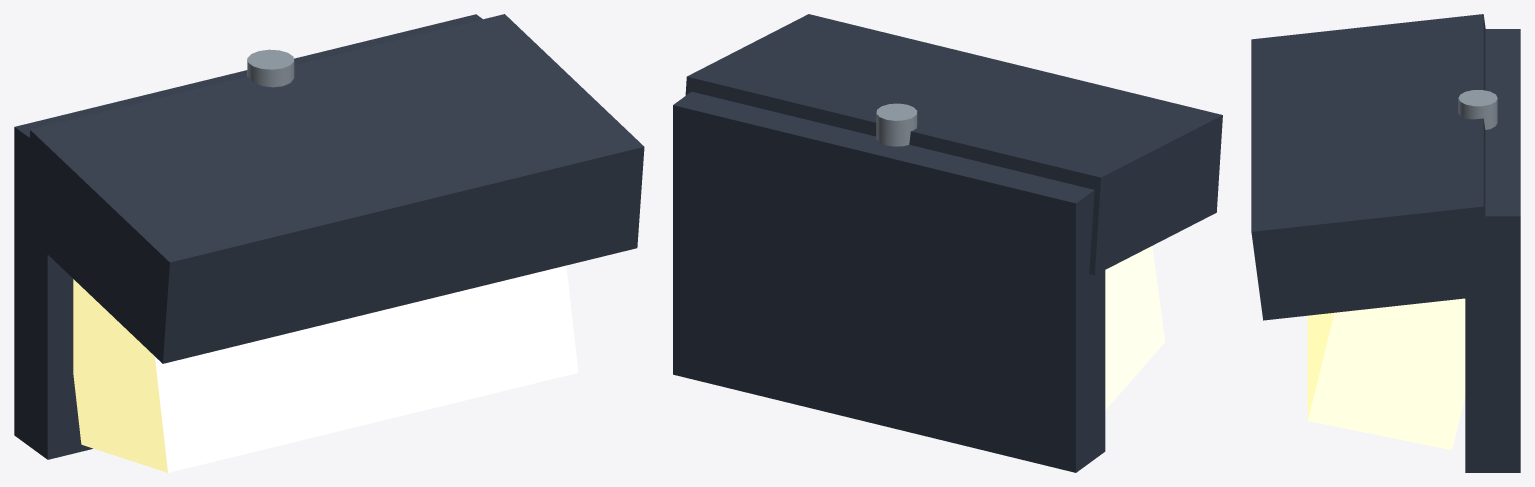
The picture shows the model from 3 angles, left to right: view 1: azimuth 30°, elevation 25°; view 2: azimuth 150°, elevation 25°; view 3: azimuth 270°, elevation 25°; orthographic projection. The views are drawn at different scales.
Parts seen in each view (by area): view 1: cad-fixture-wall-pack; view 2: cad-fixture-wall-pack; view 3: cad-fixture-wall-pack.
Boxes of the visible parts, left/top/right/bottom form: cad-fixture-wall-pack: left=14, top=14, right=644, bottom=472; cad-fixture-wall-pack: left=673, top=14, right=1222, bottom=472; cad-fixture-wall-pack: left=1251, top=14, right=1520, bottom=472.
Size of the model in its own units: 0.37 by 0.252 by 0.2186.
